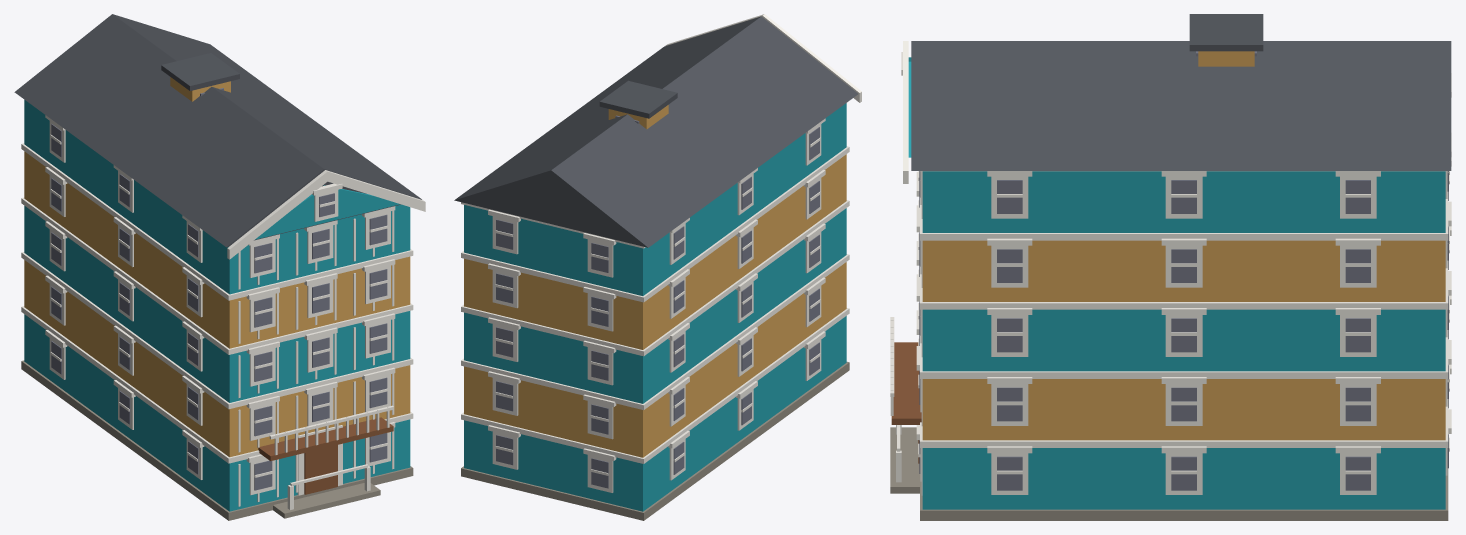
Rendered from house-1x2-5f-valparaiso-a.glb.
3 renders of one model, left to right at view 1: azimuth 30°, elevation 25°; view 2: azimuth 150°, elevation 25°; view 3: azimuth 270°, elevation 25°, orthographic. The views are drawn at different scales.
Parts seen in each view (by area): view 1: house-1x2-5f-valparaiso-a; view 2: house-1x2-5f-valparaiso-a; view 3: house-1x2-5f-valparaiso-a.
Part boxes in pixels (x1,y1,x2,y2): house-1x2-5f-valparaiso-a: (14,14,425,520); house-1x2-5f-valparaiso-a: (454,14,861,520); house-1x2-5f-valparaiso-a: (890,14,1451,520).
Bounding box in the file's own units: 1.02 × 1.7 × 1.99.
Materials: 1 (1 with a texture image).
